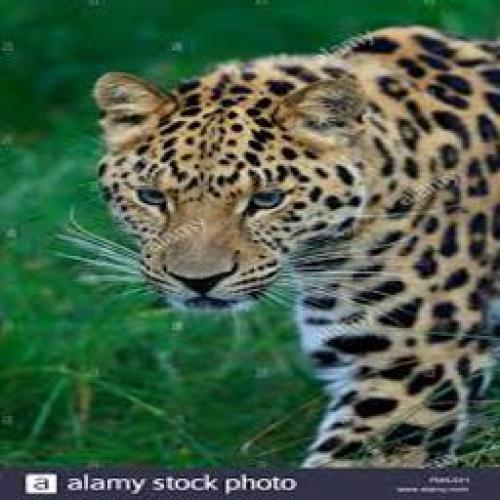amur_leopard-endangered: (91, 22, 500, 460)
